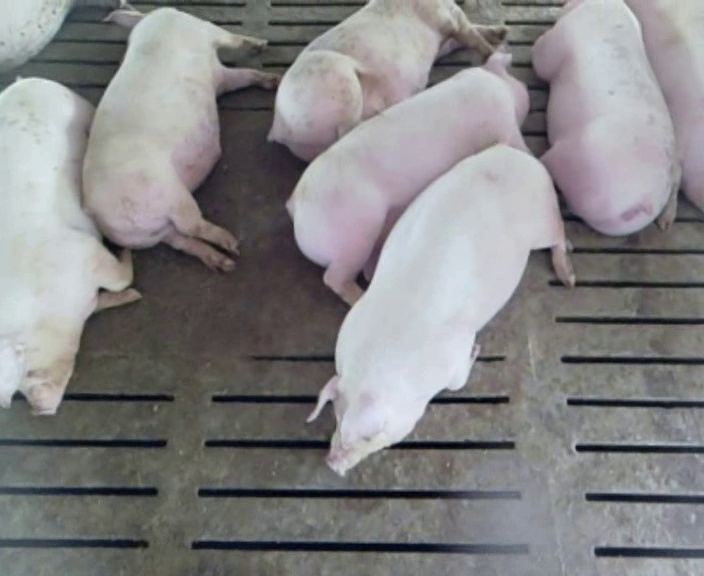pig: (307, 145, 573, 473), (287, 52, 528, 302), (83, 8, 278, 269), (0, 78, 142, 413), (268, 2, 505, 159), (532, 2, 676, 233), (629, 2, 703, 230), (0, 1, 71, 72)
